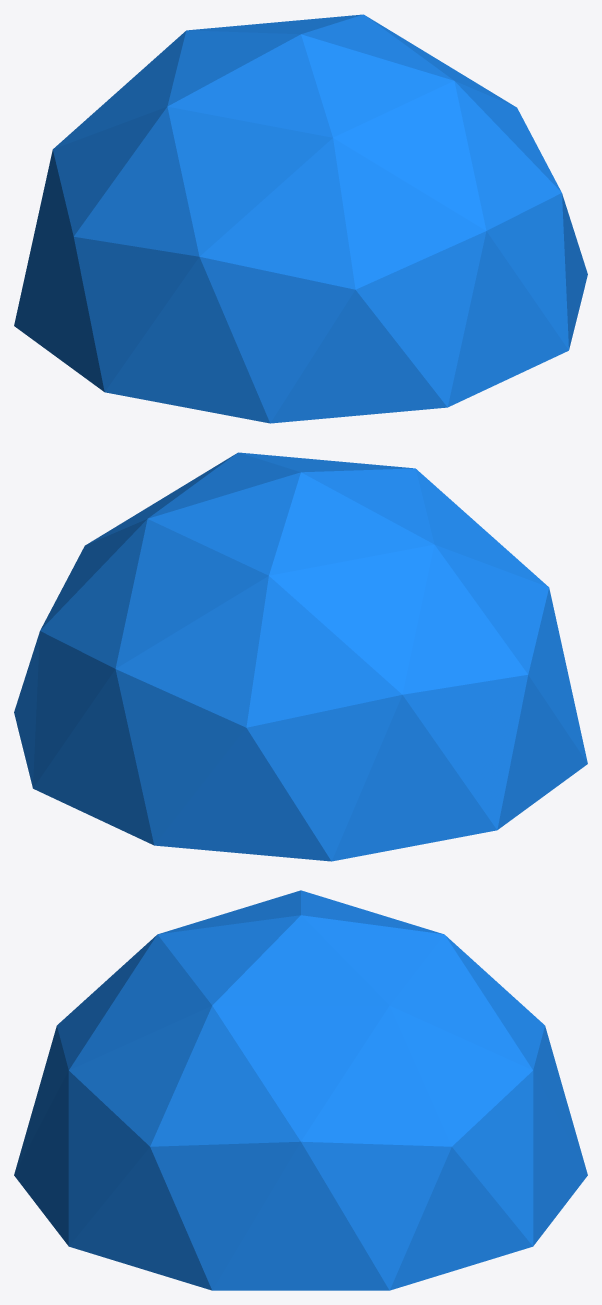
Rendered from Proto_Block_Hemisphere_Hedron_03.fbx.
3 renders of one model, top to bottom at view 1: azimuth 30°, elevation 25°; view 2: azimuth 150°, elevation 25°; view 3: azimuth 270°, elevation 25°, orthographic. The views are drawn at different scales.
Parts seen in each view (by area): view 1: Proto_Block_Hemisphere_Hedron_03; view 2: Proto_Block_Hemisphere_Hedron_03; view 3: Proto_Block_Hemisphere_Hedron_03.
Boxes of the visible parts, x1=… form: Proto_Block_Hemisphere_Hedron_03: x1=14, y1=14, x2=587, y2=423; Proto_Block_Hemisphere_Hedron_03: x1=14, y1=452, x2=587, y2=861; Proto_Block_Hemisphere_Hedron_03: x1=14, y1=890, x2=587, y2=1290.
Size of the model in its own units: 0.9438 by 0.4962 by 0.9923.
